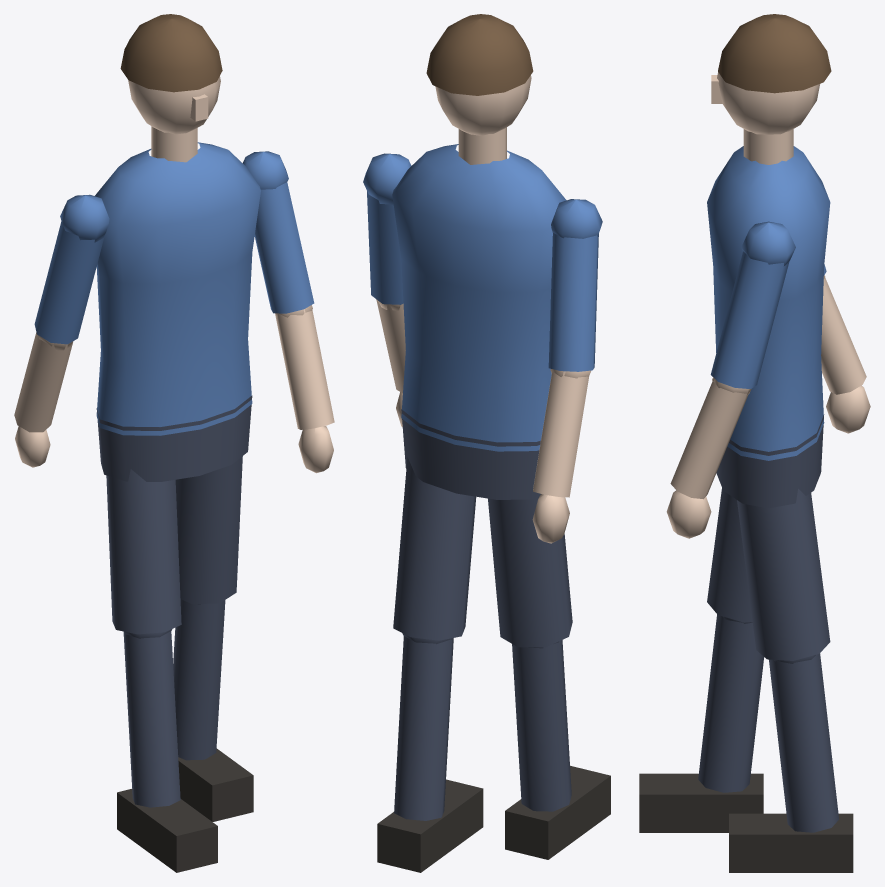
File: person_a.glb
3 views of the same model, side by side, from view 1: azimuth 30°, elevation 25°; view 2: azimuth 150°, elevation 25°; view 3: azimuth 270°, elevation 25° (orthographic). The views are drawn at different scales.
Visible parts, largest first — view 1: person; view 2: person; view 3: person.
Boxes of the visible parts, x1=… form: person: x1=14, y1=14, x2=334, y2=872; person: x1=363, y1=14, x2=610, y2=872; person: x1=639, y1=14, x2=870, y2=872.
Size of the model in its own units: 0.0293 by 0.0914 by 0.0233.
